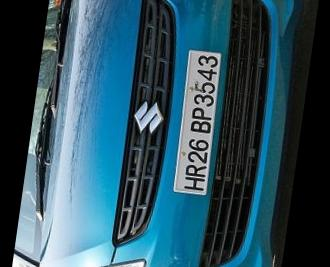plate: (157, 37, 244, 204)
